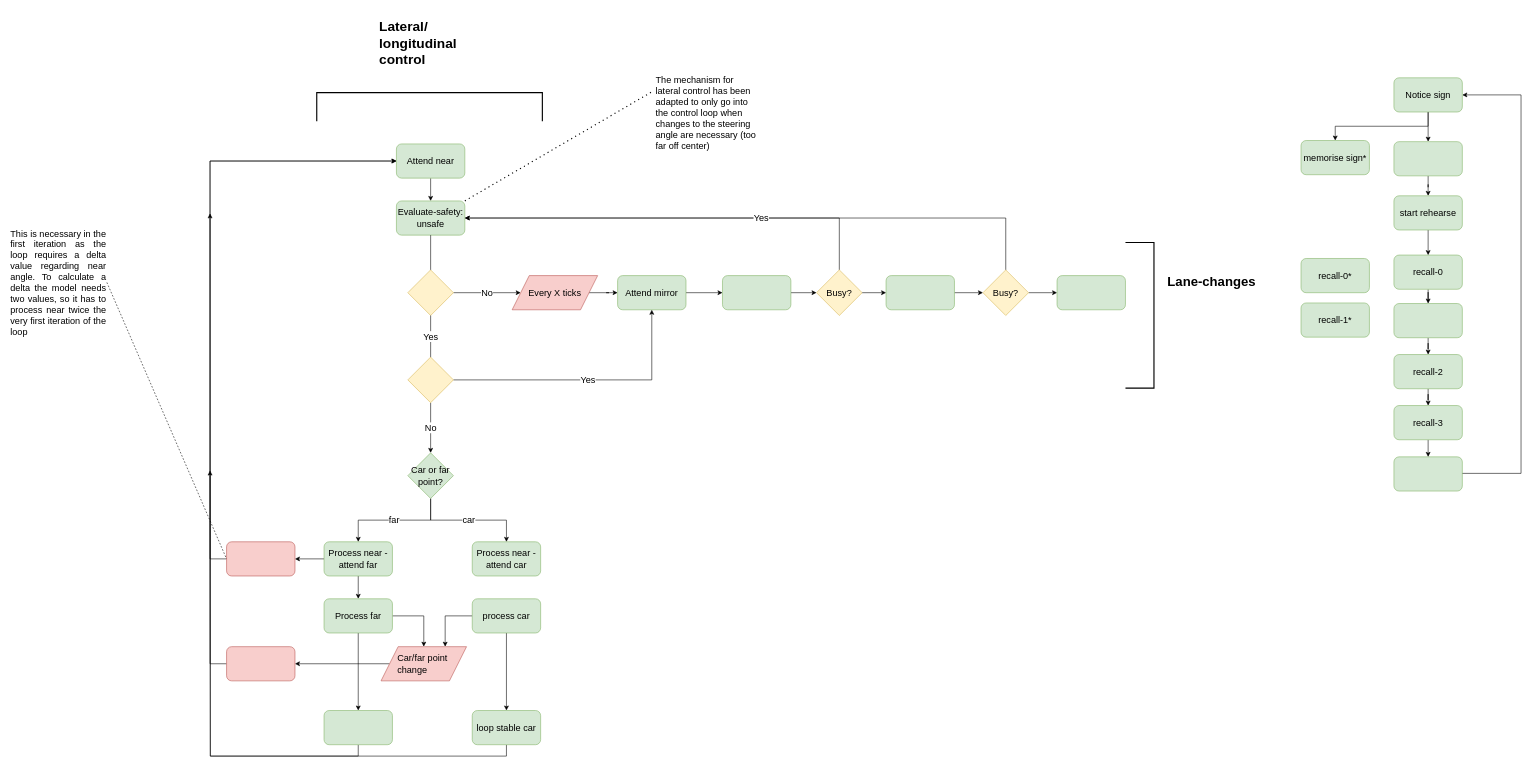
Image size: 1536x771. Some labels were removed from this diagram. Here are the shapes that lost their labels. From the top down, the centre of each, then its label:
pixel 1427 158: memorise sign
pixel 430 292: In right lane?
pixel 756 292: Process mirror Attend lane
pixel 919 292: Process lane
pixel 1090 292: Change lane
pixel 1427 320: recall-1
pixel 430 380: Car in the way?
pixel 1427 473: recall-4
pixel 260 558: Process without old
pixel 260 663: Loop stable change point
pixel 357 727: Loop stable far
